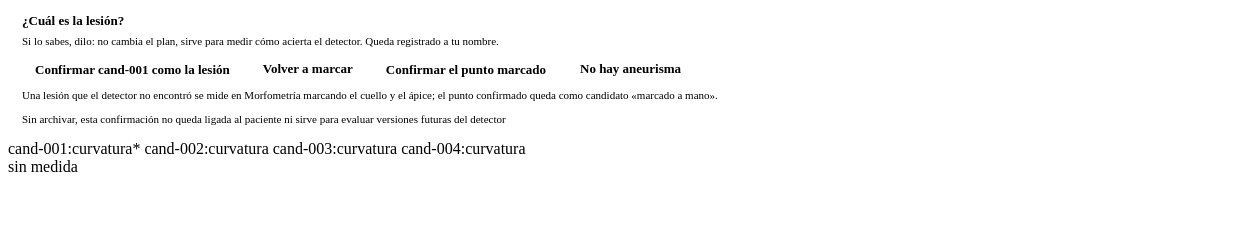
Test: confirmar el punto marcado › añade un candidato «marcado a mano» elegible y lo elige
Step 1. Click the button "Confirmar el punto marcado" → (466, 70), box [373, 60, 559, 78]
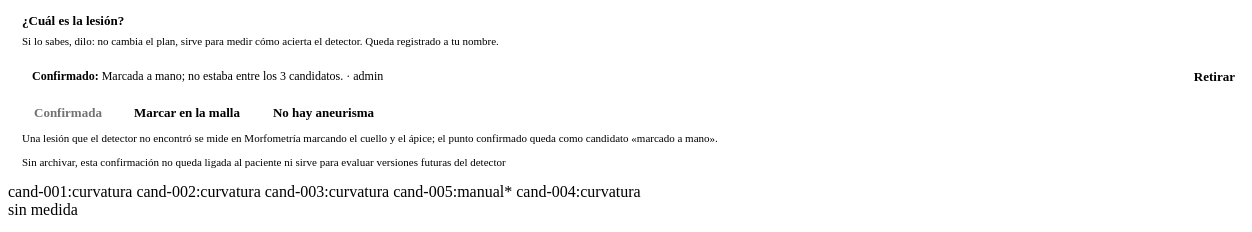
Now the text with test id "lista" shows "cand-001:curvatura cand-002:curvatura cand-003:curvatura cand-005:manual* cand-004:curvatura", box [8, 182, 641, 200]
Now the button "Confirmada" is disabled, box [22, 104, 114, 122]
